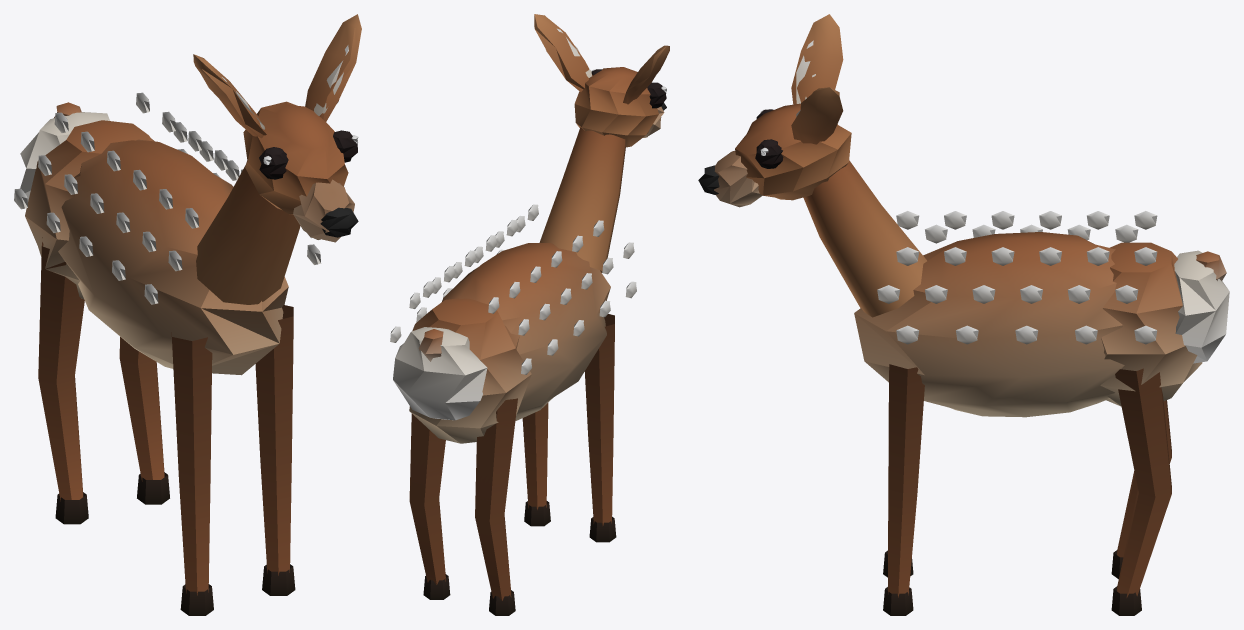
Rendered from duskfawn.glb.
3 views of the same model, side by side, from view 1: azimuth 30°, elevation 25°; view 2: azimuth 150°, elevation 25°; view 3: azimuth 270°, elevation 25° (orthographic). The views are drawn at different scales.
Visible parts, largest first — view 1: body, head, leg_FR, leg_BR, leg_FL, leg_BL; view 2: body, head, leg_BR, leg_FR, leg_BL, leg_FL, tail; view 3: body, head, leg_BL, leg_FL, leg_BR.
Part boxes in pixels (box(x1,y1,x2,y2)): body: box(14, 92, 320, 375); head: box(193, 14, 361, 304); leg_FR: box(171, 332, 213, 615); leg_BR: box(38, 237, 88, 524); leg_FL: box(255, 305, 295, 595); leg_BL: box(119, 337, 169, 504); body: box(390, 204, 636, 443); head: box(534, 14, 669, 272); leg_BR: box(475, 398, 517, 615); leg_FR: box(584, 314, 616, 542); leg_BL: box(409, 413, 450, 599); leg_FL: box(522, 403, 550, 526); tail: box(418, 329, 443, 361); body: box(854, 211, 1229, 417); head: box(698, 14, 926, 317); leg_BL: box(1111, 368, 1171, 615); leg_FL: box(883, 364, 924, 615); leg_BR: box(1111, 400, 1171, 578).
Bounding box in the file's own units: 0.3739 × 1.26 × 1.12.
